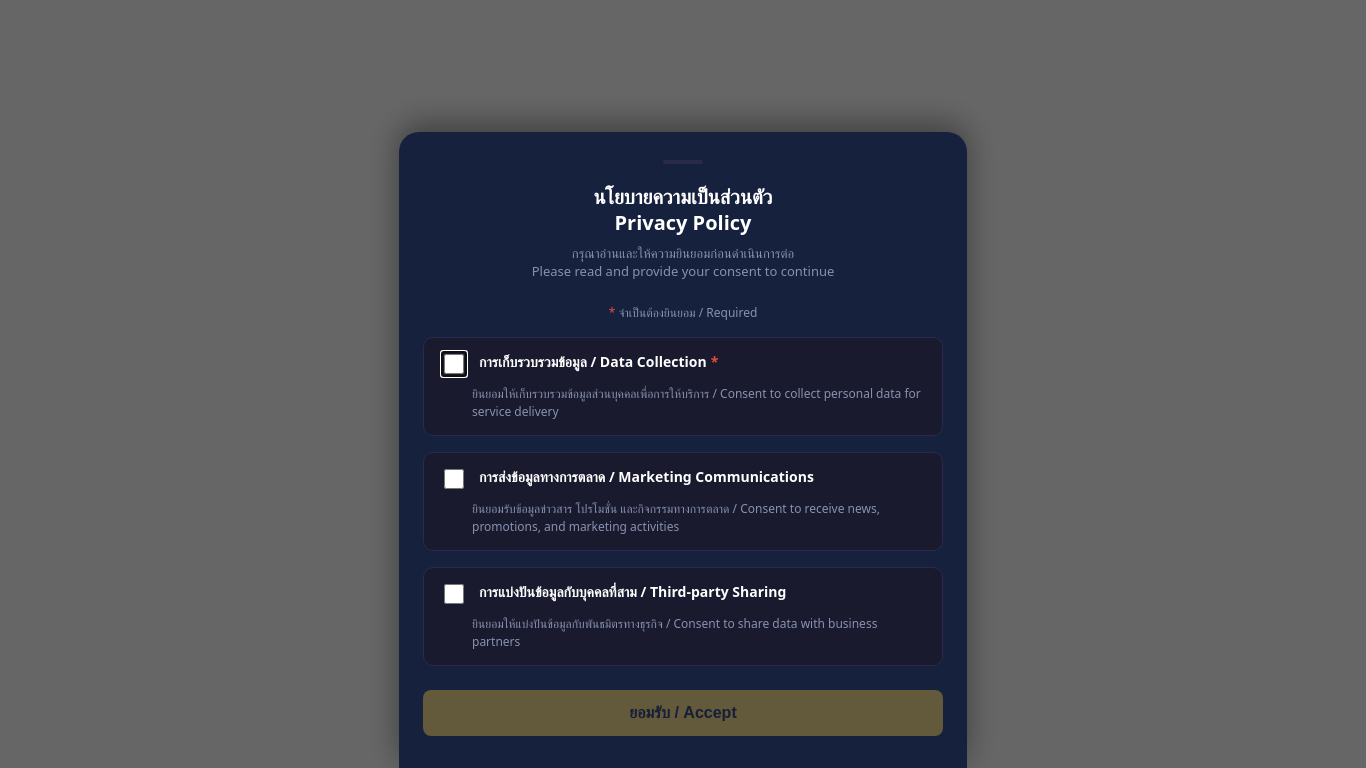
Test case: PdpaConsent › toggling a checkbox off and on works
Note: Check it
Step 1. Click the checkbox labelled "การเก็บรวบรวมข้อมูล / Data Collection*" → (454,364), box [444, 354, 464, 374]
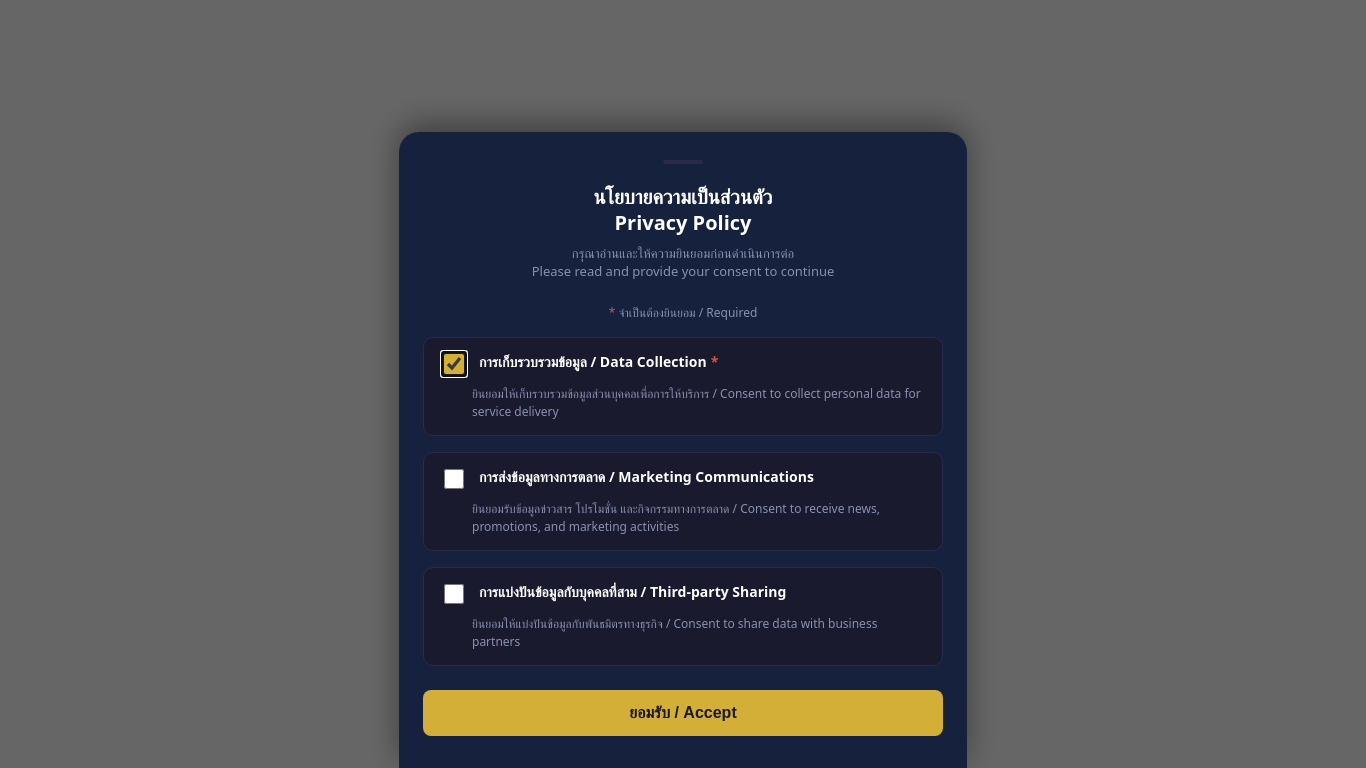
Expected: the checkbox labelled "การเก็บรวบรวมข้อมูล / Data Collection*" is checked
Note: Uncheck it
Step 2. Click the checkbox labelled "การเก็บรวบรวมข้อมูล / Data Collection*" → (454,364), box [444, 354, 464, 374]
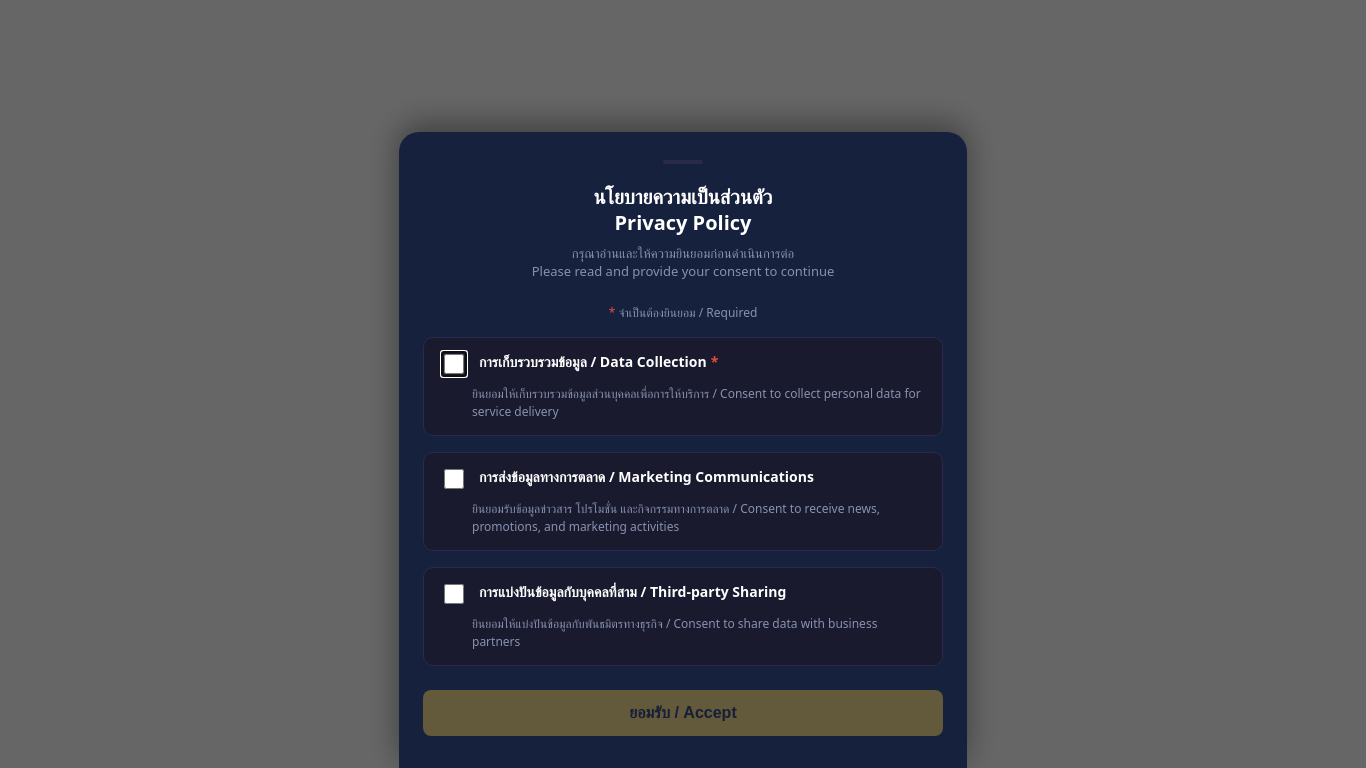
Expected: the checkbox labelled "การเก็บรวบรวมข้อมูล / Data Collection*" is not checked, [444, 354, 464, 374]
Expected: the button "ยอมรับ / Accept" is disabled, [423, 690, 943, 736]
